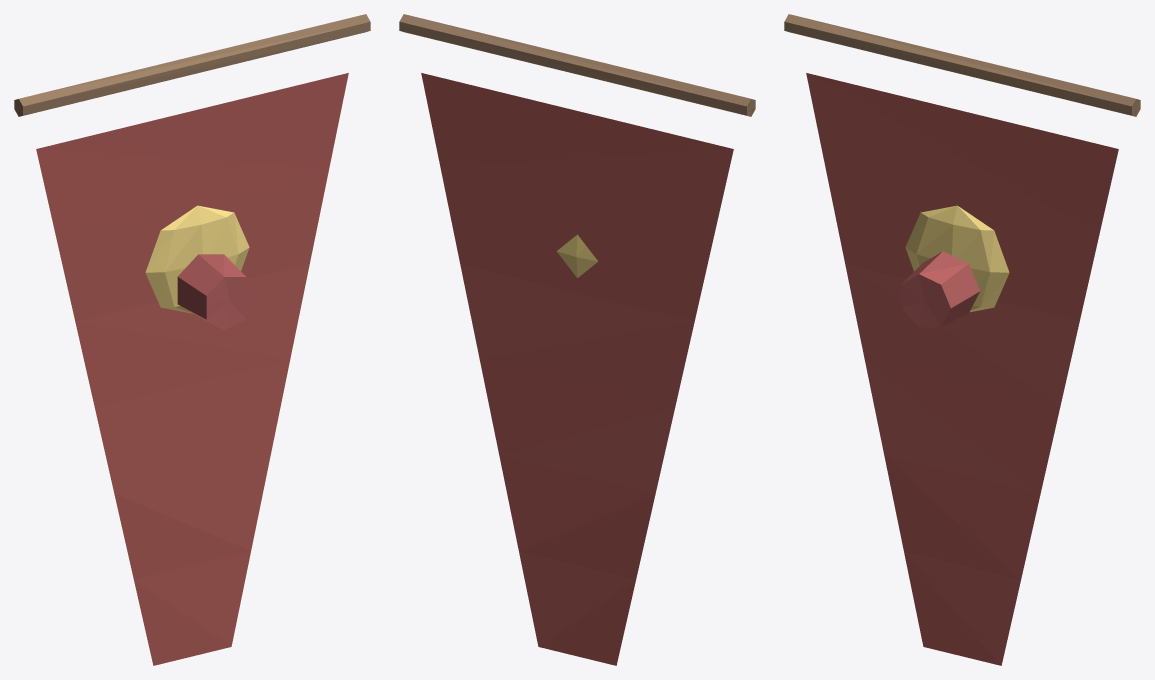
File: banner.glb
3 views of the same model, side by side, from view 1: azimuth 30°, elevation 25°; view 2: azimuth 150°, elevation 25°; view 3: azimuth 330°, elevation 25° (orthographic).
Visible parts, largest first — view 1: banner; view 2: banner; view 3: banner.
Part boxes in pixels (bbox=[...]): banner: bbox=[14, 14, 370, 665]; banner: bbox=[399, 14, 755, 665]; banner: bbox=[784, 14, 1140, 665].
Bounding box in the file's own units: 0.8 × 1.32 × 0.1673.
